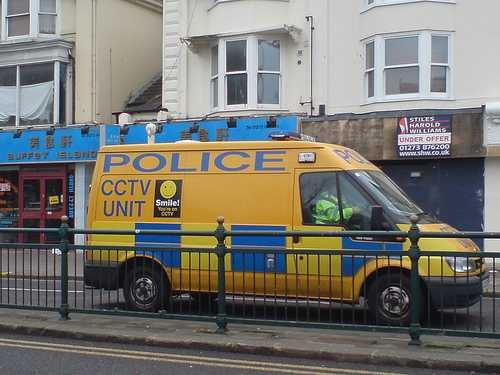Police Van: (67, 120, 487, 328)
